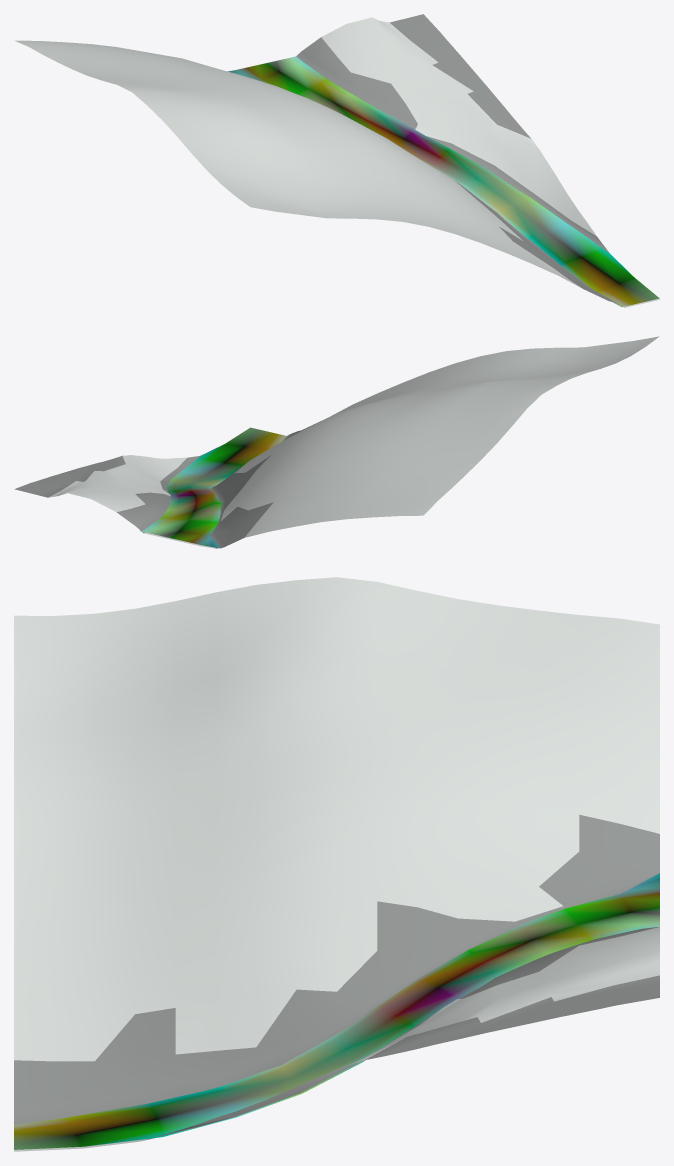
3 views of the same model, one above another, from view 1: azimuth 30°, elevation 25°; view 2: azimuth 150°, elevation 25°; view 3: azimuth 270°, elevation 25° (orthographic). The views are drawn at different scales.
Parts seen in each view (by area): view 1: G:\FFXIV-MapTools\exports\r1f1\bg\ffxiv\roc_r1\fld\r1f1\bgpl (×5); view 2: G:\FFXIV-MapTools\exports\r1f1\bg\ffxiv\roc_r1\fld\r1f1\bgpl (×5); view 3: G:\FFXIV-MapTools\exports\r1f1\bg\ffxiv\roc_r1\fld\r1f1\bgpl (×5).
Part boxes in pixels (x1,y1,x2,y2): G:\FFXIV-MapTools\exports\r1f1\bg\ffxiv\roc_r1\fld\r1f1\bgpl (×5): (15,14,659,307); G:\FFXIV-MapTools\exports\r1f1\bg\ffxiv\roc_r1\fld\r1f1\bgpl (×5): (14,336,659,548); G:\FFXIV-MapTools\exports\r1f1\bg\ffxiv\roc_r1\fld\r1f1\bgpl (×5): (14,577,659,1149).
Bounding box in the file's own units: 128 × 65.93 × 128.
